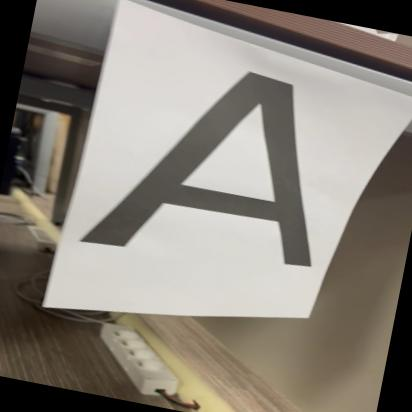seat: (73, 35, 339, 308)
